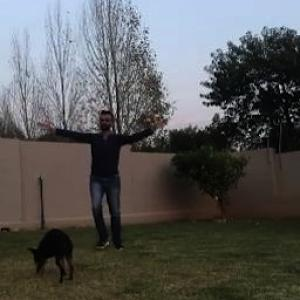takeoff: (36, 111, 166, 259)
